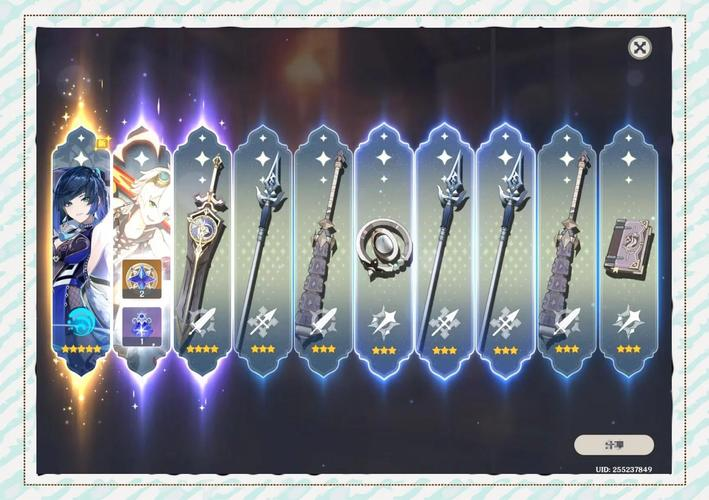夜兰: (52, 166, 111, 360)
